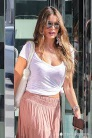female: (33, 5, 76, 57)
